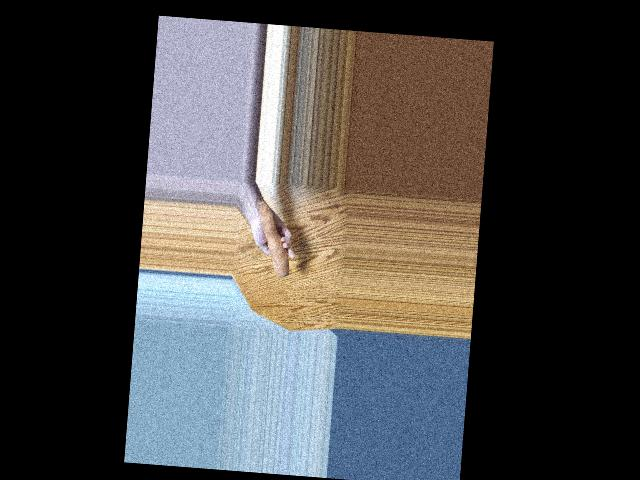sweet_potato: (252, 200, 289, 275)
